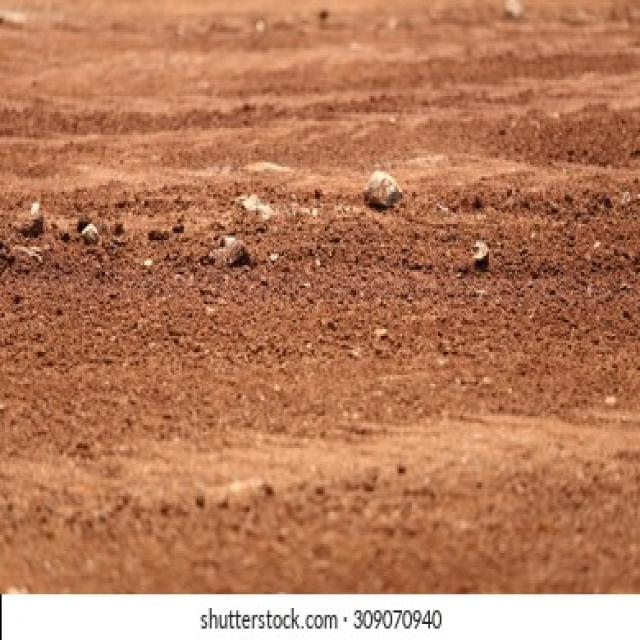Red Soil: (61, 65, 593, 552)
